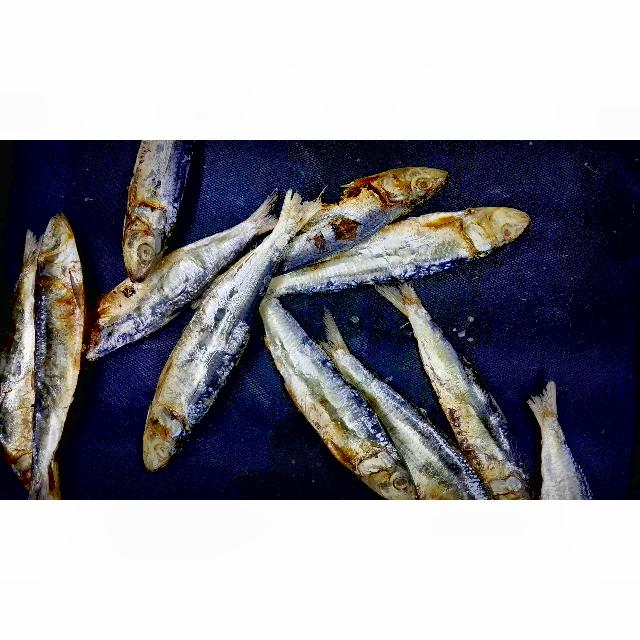Grade_B_Body: (414, 368, 537, 471), (271, 360, 405, 451), (29, 281, 93, 452), (327, 203, 453, 287), (269, 181, 365, 266), (359, 402, 475, 467)
Grade_B_Head: (364, 156, 460, 215), (456, 202, 556, 254), (142, 394, 198, 482), (114, 208, 170, 289), (339, 453, 428, 500), (24, 213, 90, 275), (5, 456, 85, 500)
Grade_B_Tail: (379, 285, 499, 364), (258, 300, 339, 361)
